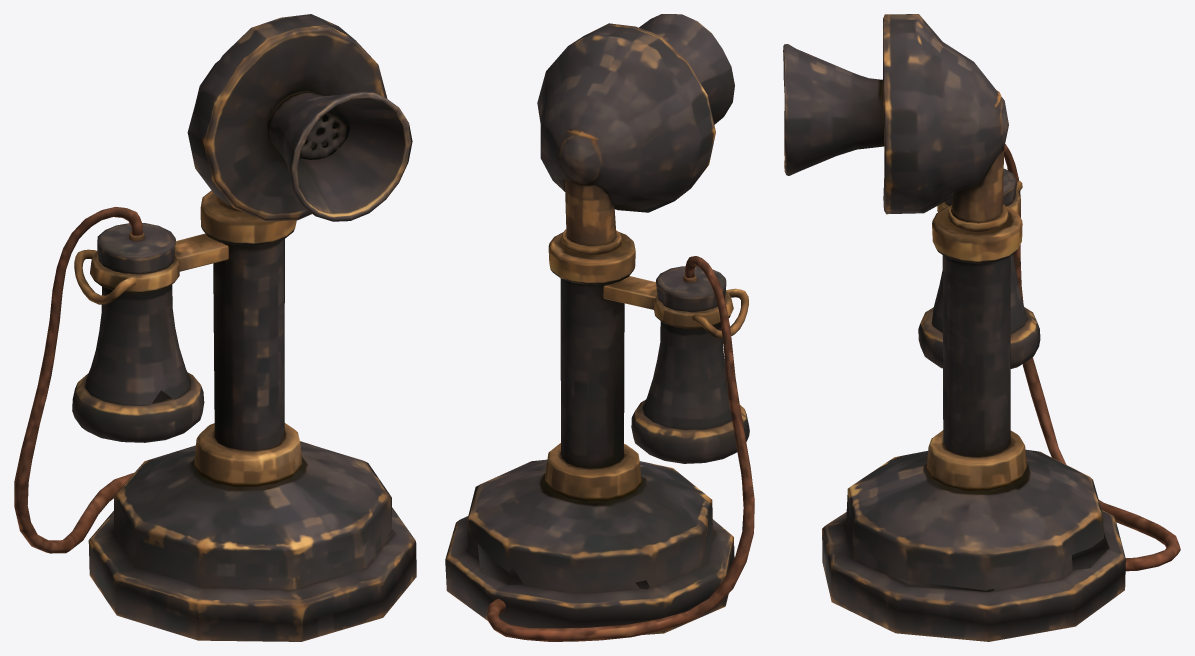
Rendered from candlestick_phone.glb.
The picture shows the model from 3 angles, left to right: view 1: azimuth 30°, elevation 25°; view 2: azimuth 150°, elevation 25°; view 3: azimuth 270°, elevation 25°; orthographic projection. The views are drawn at different scales.
Parts seen in each view (by area): view 1: geometry_0; view 2: geometry_0; view 3: geometry_0.
Part boxes in pixels (x1,y1,x2,y2): geometry_0: [14, 14, 416, 641]; geometry_0: [445, 14, 754, 641]; geometry_0: [783, 14, 1180, 641].
Size of the model in its own units: 0.6334 by 1 by 0.6537.
Materials: 1 (1 with a texture image).
